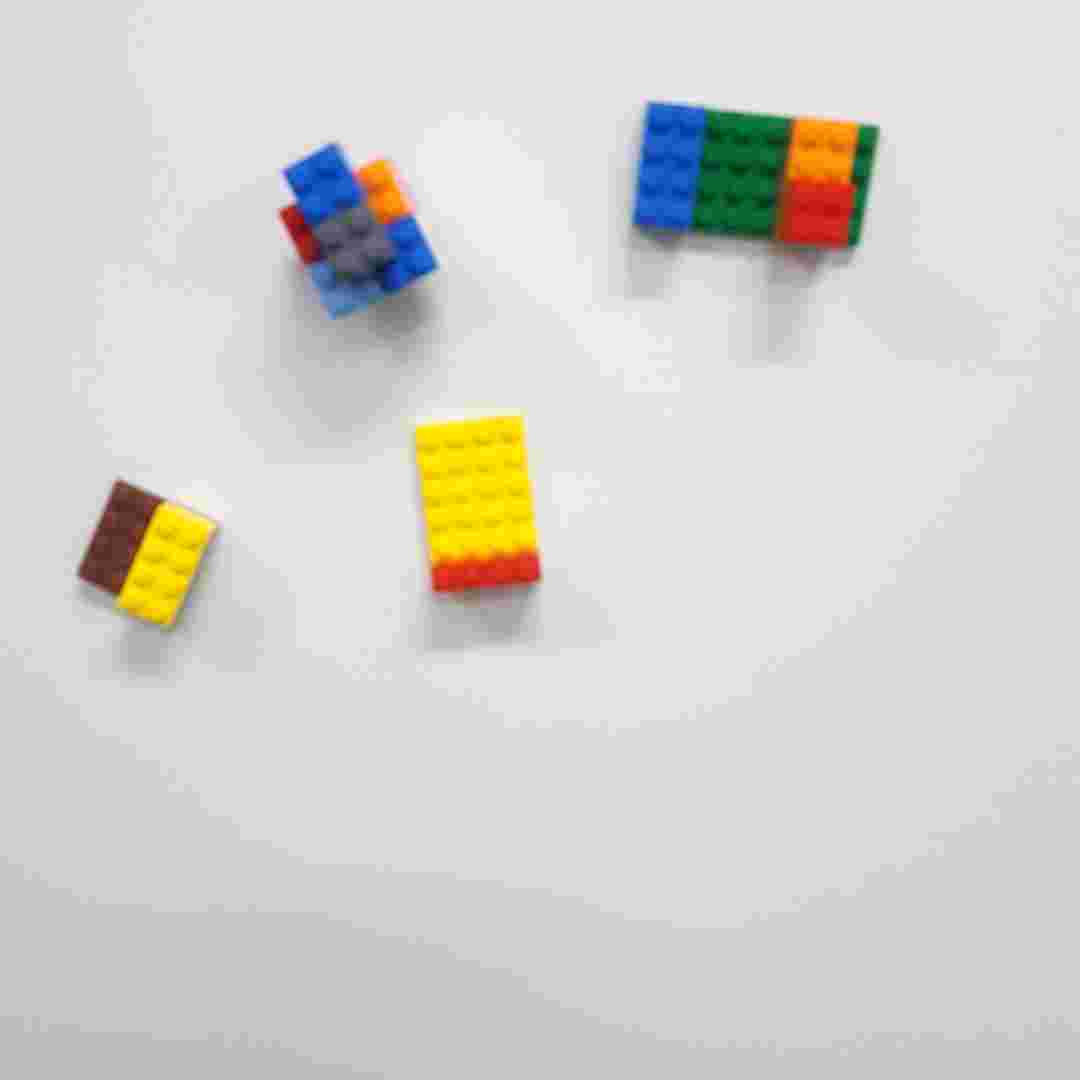LEGO: (632, 97, 883, 256), (272, 144, 442, 323), (409, 405, 551, 605), (75, 478, 220, 632)
